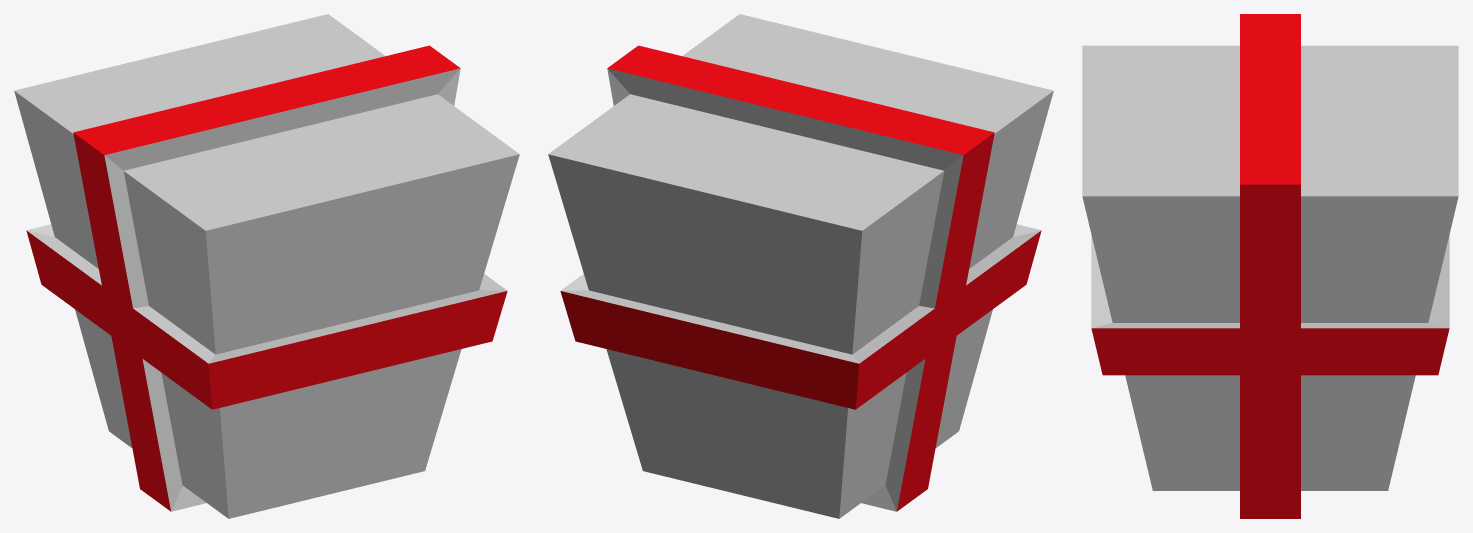
File: QuickHeal.fbx
3 renders of one model, left to right at view 1: azimuth 30°, elevation 25°; view 2: azimuth 150°, elevation 25°; view 3: azimuth 270°, elevation 25°, orthographic.
Parts seen in each view (by area): view 1: CnockHeal; view 2: CnockHeal; view 3: CnockHeal.
Part boxes in pixels (x1,y1,x2,y2): CnockHeal: [14, 14, 519, 518]; CnockHeal: [548, 14, 1053, 518]; CnockHeal: [1082, 14, 1458, 518].
Bounding box in the file's own units: 113 × 113 × 106.
